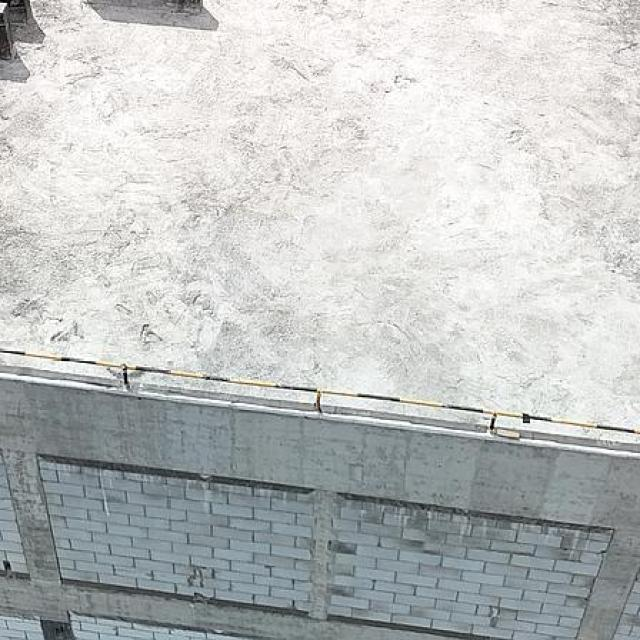edge_guardrail: (0, 347, 640, 436)
